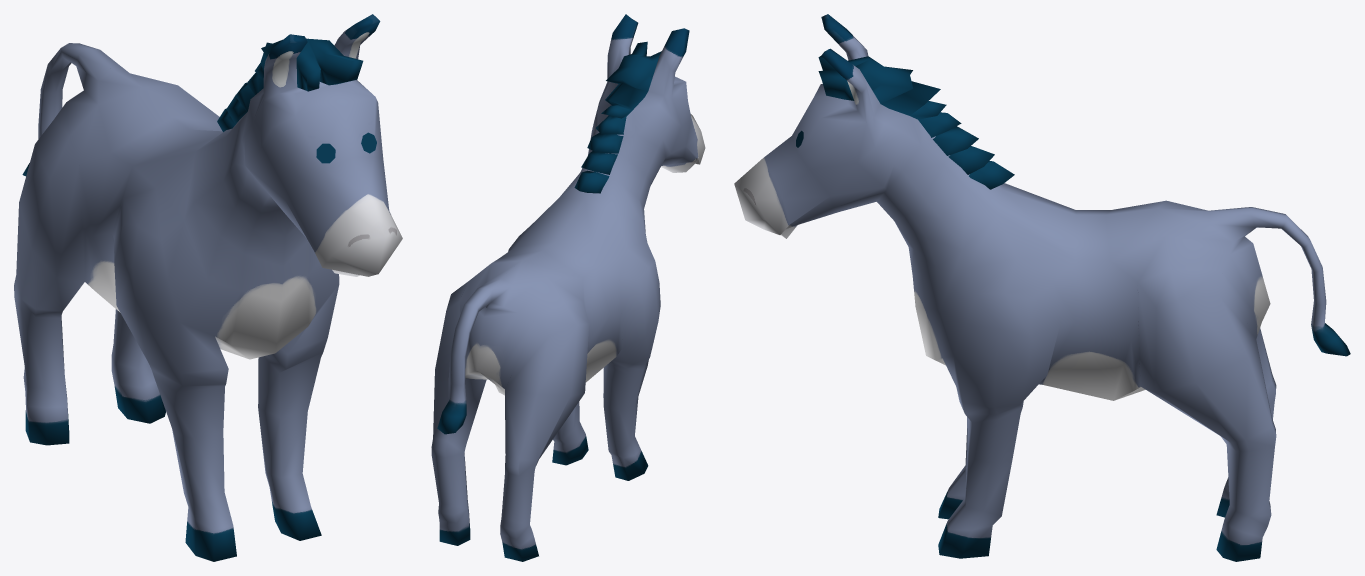
Rendered from Burro.fbx.
3 renders of one model, left to right at view 1: azimuth 30°, elevation 25°; view 2: azimuth 150°, elevation 25°; view 3: azimuth 270°, elevation 25°, orthographic. The views are drawn at different scales.
Visible parts, largest first — view 1: Burro; view 2: Burro; view 3: Burro.
Boxes of the visible parts, box(x1,y1,x2,y2) form: Burro: box(14, 14, 402, 561); Burro: box(431, 14, 705, 561); Burro: box(734, 14, 1350, 561).
Bounding box in the file's own units: 1.1 × 2.98 × 3.32.
